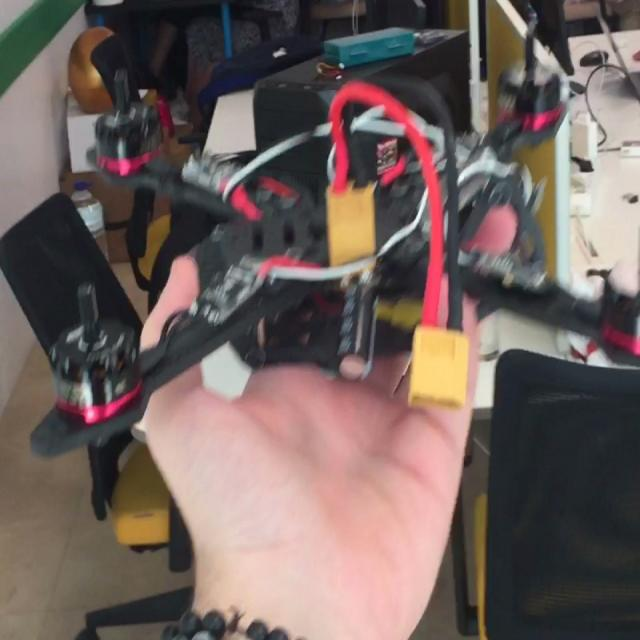drone: (40, 35, 640, 467)
